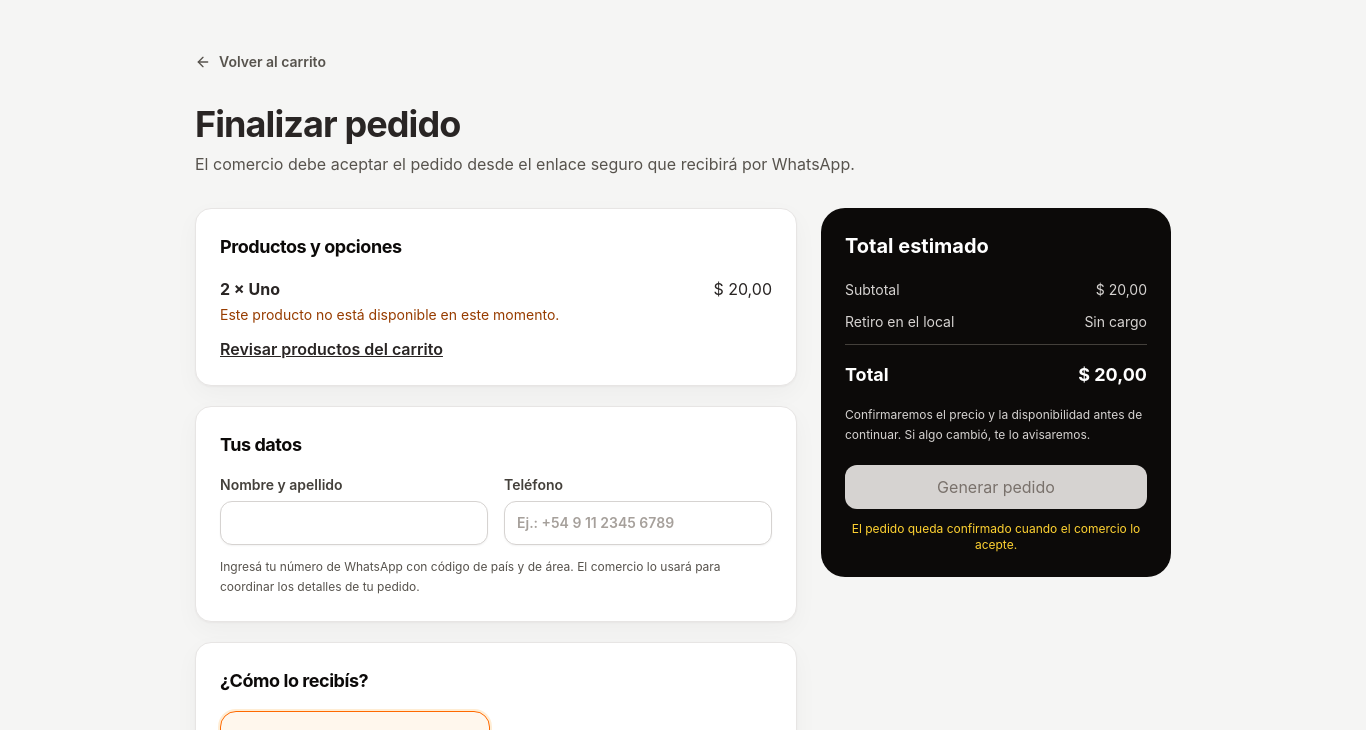
Test: checkout recovery after an ambiguous response › shows the line summary and blocks a new request with an unavailable product
Type "Ana Pérez" into the field labelled "Nombre y apellido" at (354, 523), box top-left (220, 501), bottom-right (488, 545)
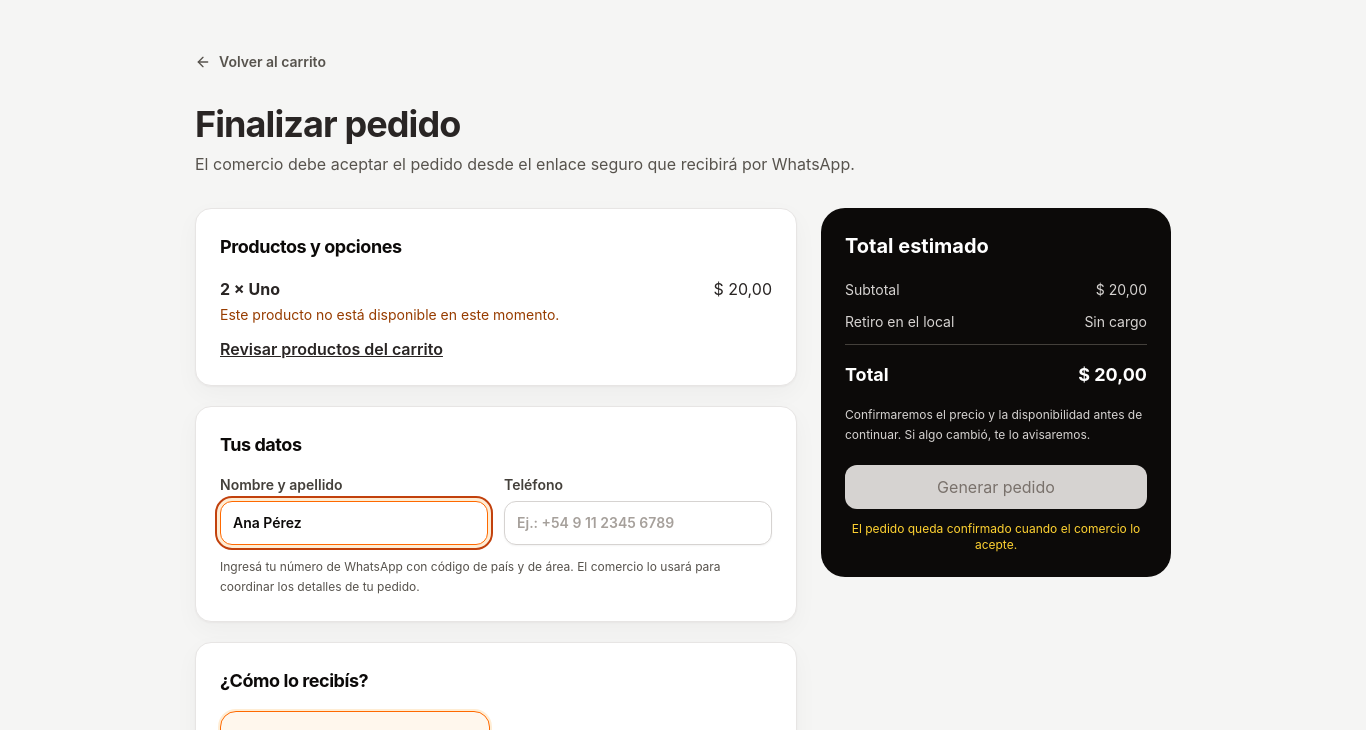
Type "+5493492123456" into the field labelled "Teléfono" at (638, 523), box top-left (504, 501), bottom-right (772, 545)
(page scrolled)
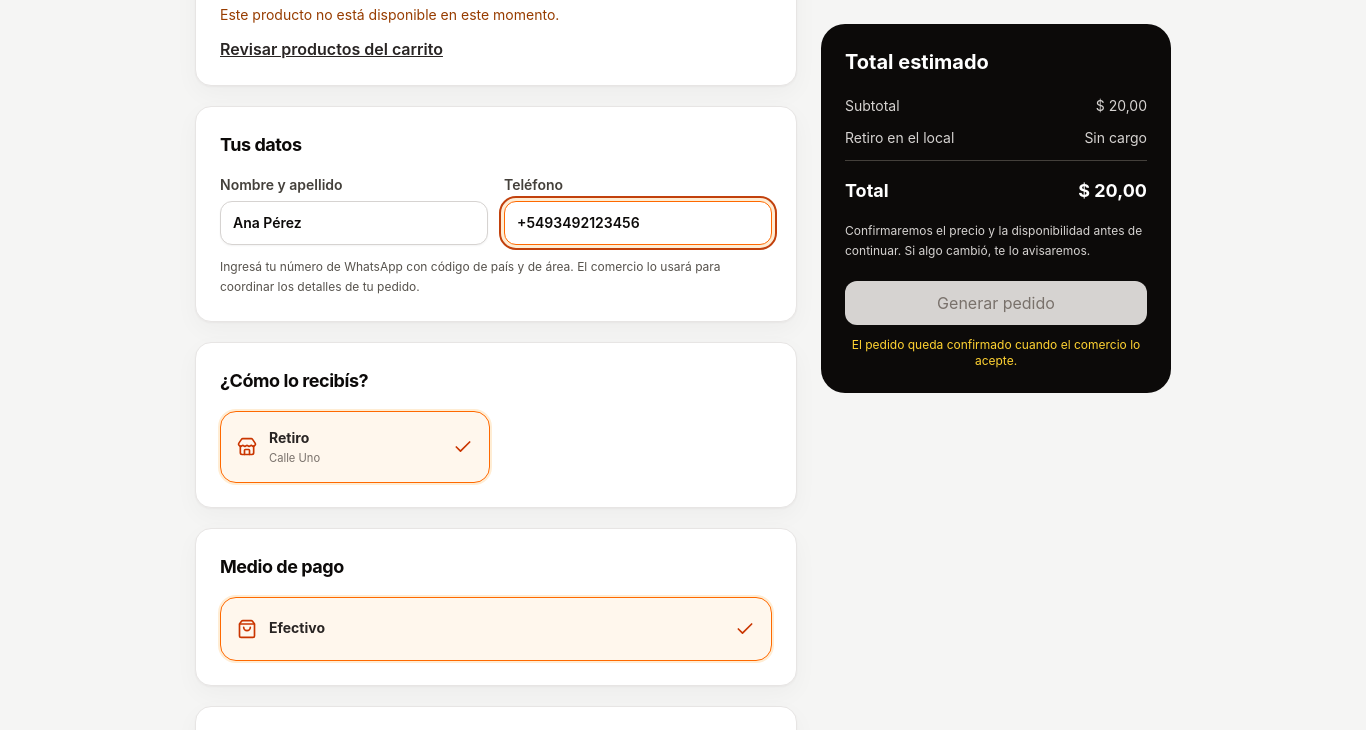
Check: the text "Este producto no está disponible en este momento." is shown, box top-left (220, 6), bottom-right (559, 23)
Check: the button "Generar pedido" is disabled, box top-left (845, 281), bottom-right (1147, 325)
Submit the form named "Generar pedido"
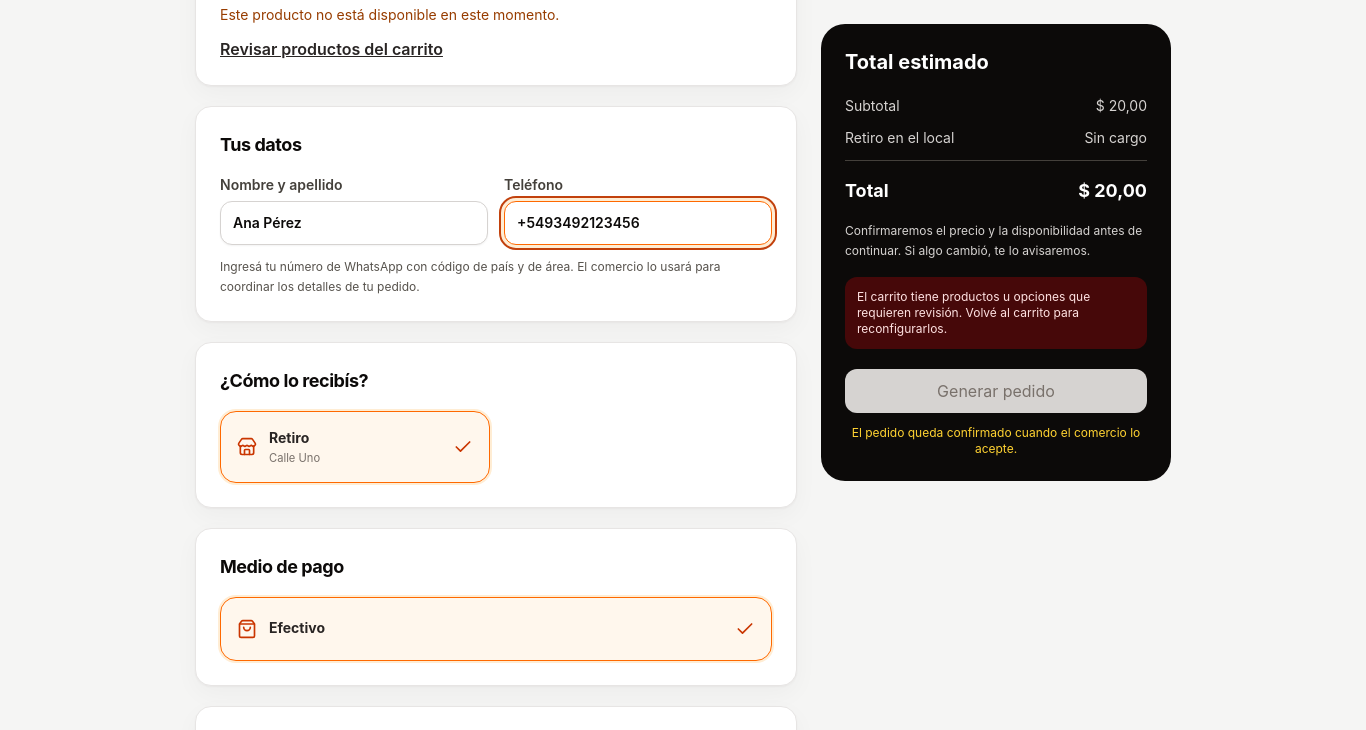
Check: the text "El carrito tiene productos u opciones" is shown, box top-left (857, 289), bottom-right (1090, 336)
